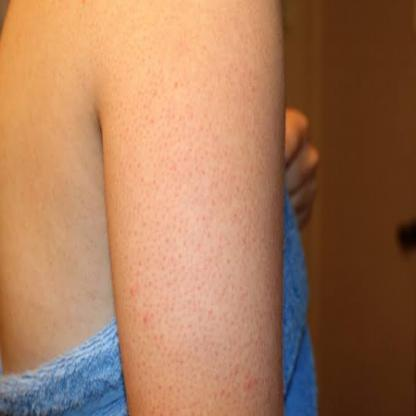Chicken Skin: (125, 130, 279, 402)
